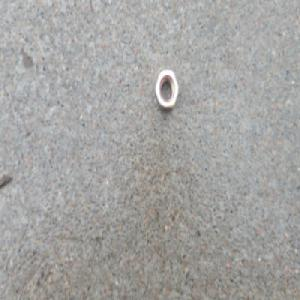Nut: (154, 68, 179, 110)
